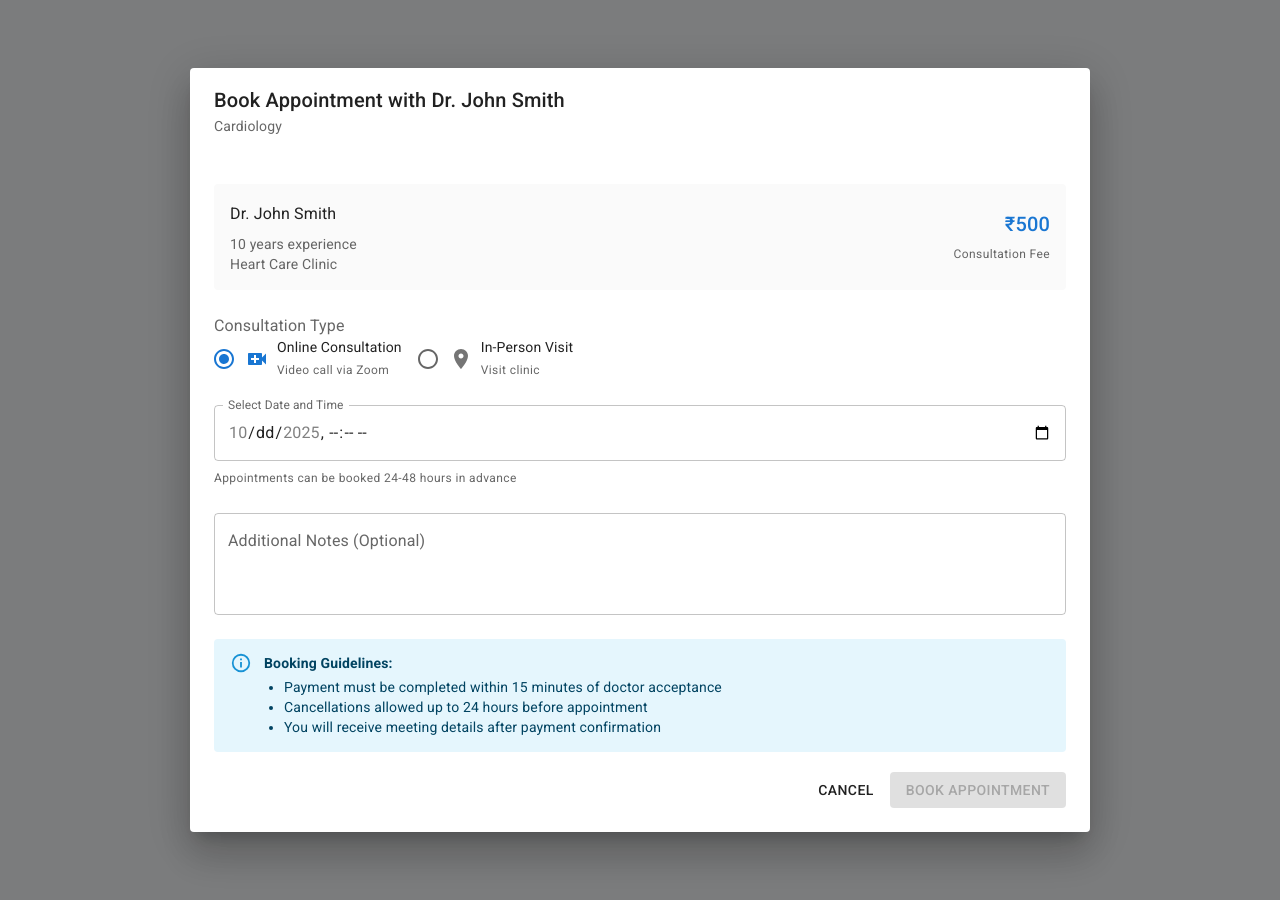
Test: Basic Integration Tests › should allow selecting appointment type
Expected: the radio button showing "online" is checked, [203,337,402,381]
Note: Click physical option
Step 1. Click the radio button showing "physical" → coordinates (527, 347), box [407,337,573,381]
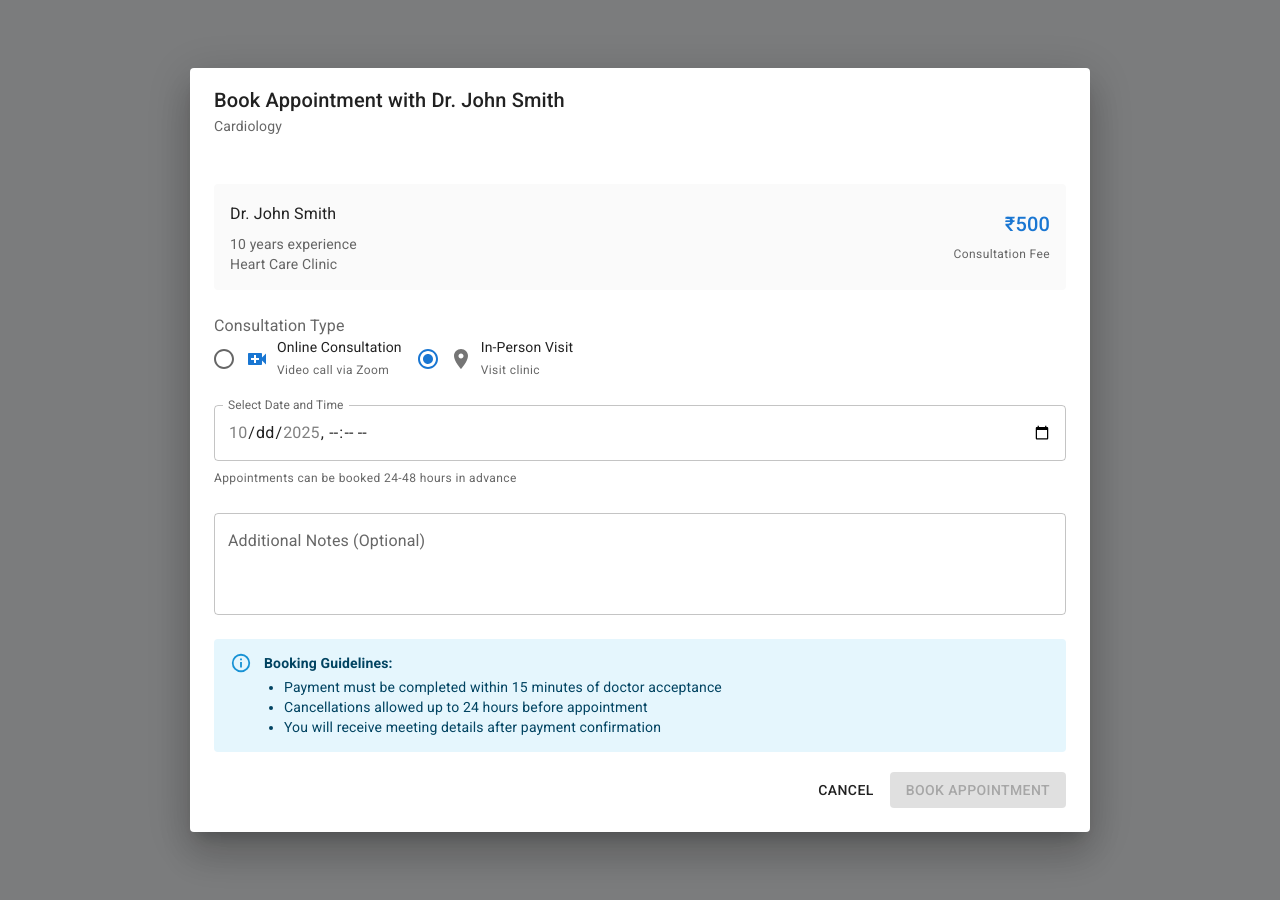
Expected: the radio button showing "physical" is checked, [407,337,573,381]
Expected: the radio button showing "online" is not checked, [203,337,402,381]
